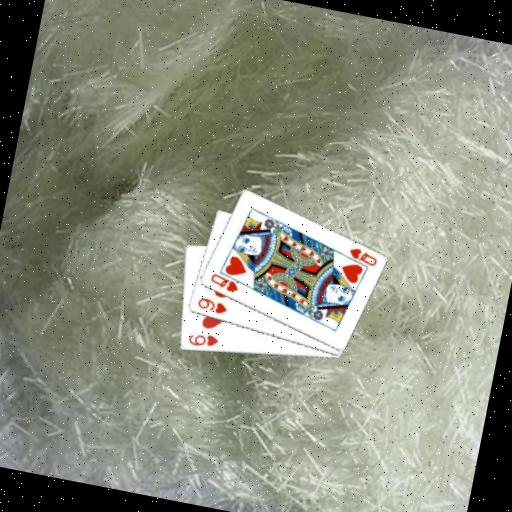6H: (184, 328, 221, 352)
9H: (193, 294, 231, 317)
QH: (338, 242, 381, 272), (206, 270, 243, 296)
